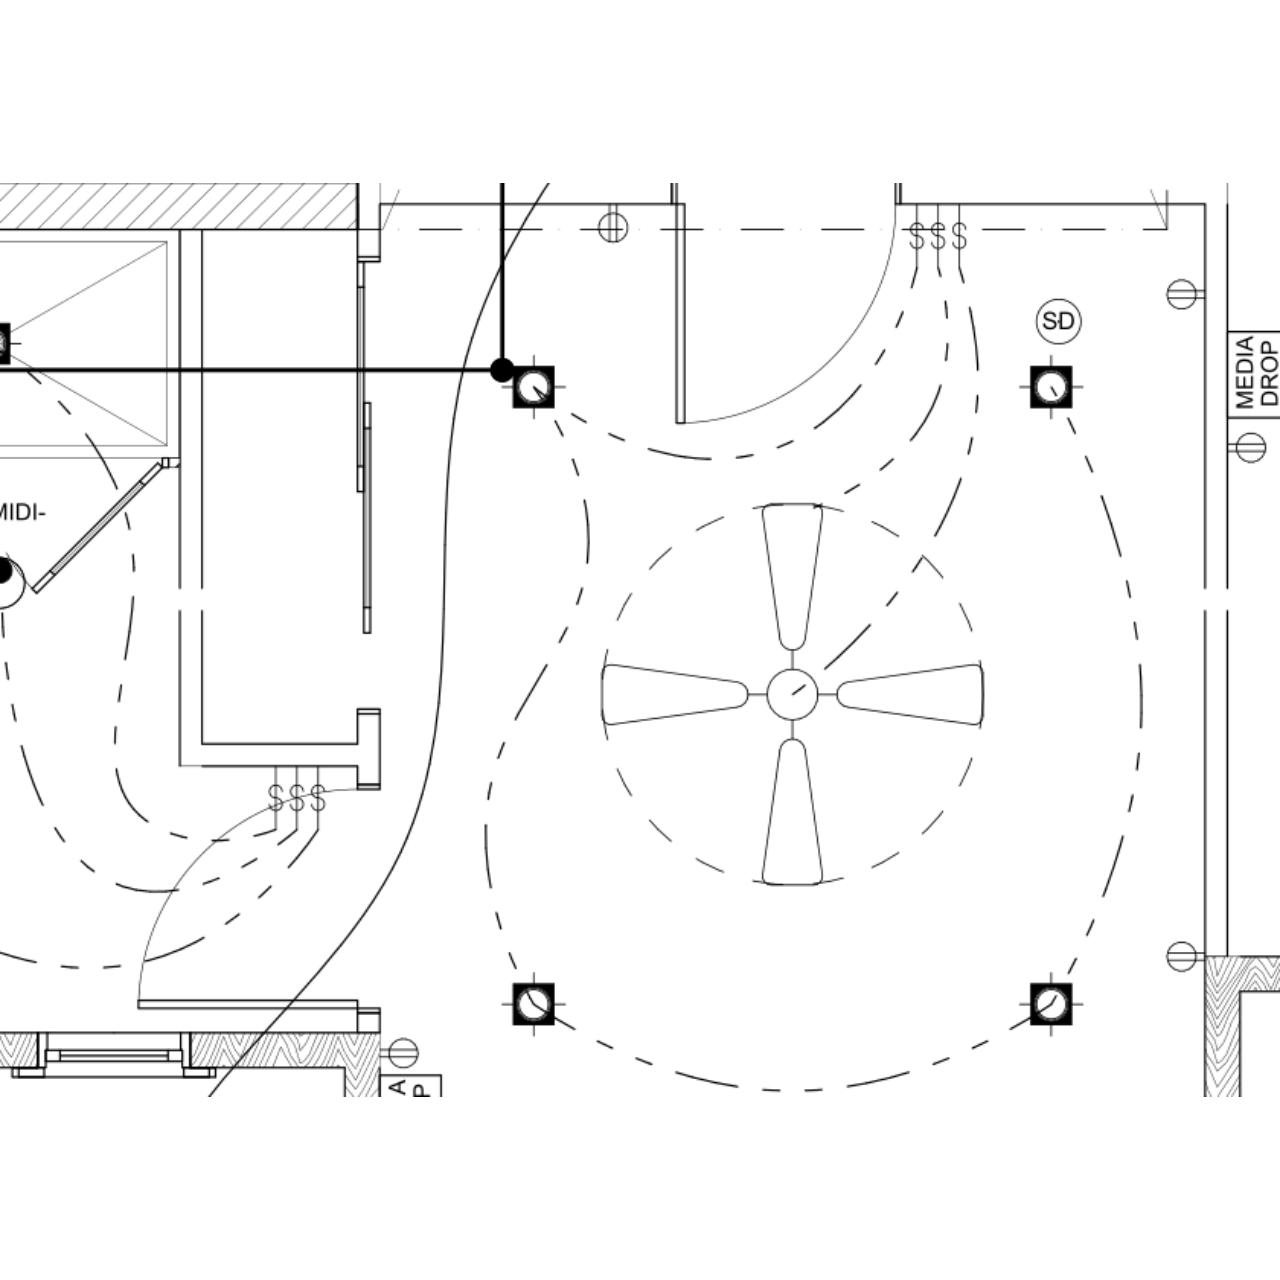Bathroom Fan: (0, 557, 23, 610)
Ceiling Fan: (600, 499, 983, 887)
Duplex Outlet: (380, 1037, 418, 1069), (1166, 278, 1205, 309), (598, 205, 628, 245), (1228, 434, 1267, 464), (1166, 942, 1204, 972)
Smoke Detector: (1036, 298, 1082, 343)
Switch: (290, 769, 306, 830), (910, 206, 926, 266), (309, 769, 326, 826), (930, 207, 946, 265), (268, 769, 284, 829), (952, 207, 968, 263)
ress_can_light: (1019, 353, 1087, 418), (502, 971, 566, 1037), (1020, 972, 1084, 1036), (503, 354, 565, 418), (0, 312, 21, 376)
